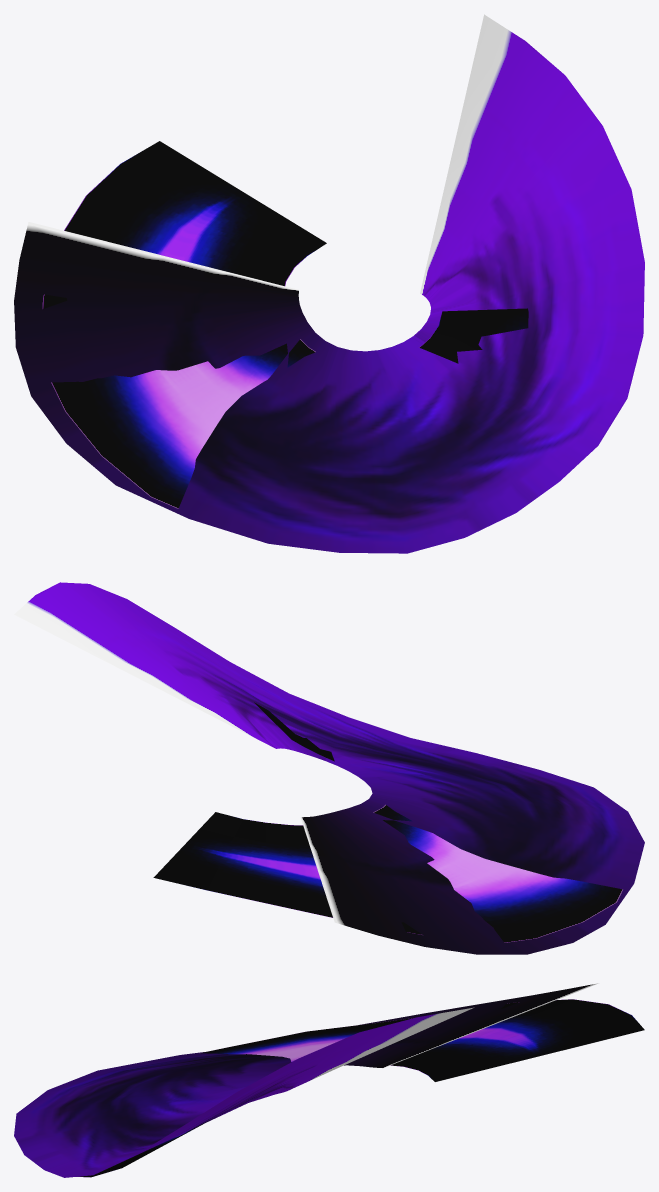
The model's file is effect_lvbu.FBX.
3 renders of one model, top to bottom at view 1: azimuth 30°, elevation 25°; view 2: azimuth 150°, elevation 25°; view 3: azimuth 270°, elevation 25°, orthographic. The views are drawn at different scales.
Visible parts, largest first — view 1: effect_lvbu_1, effect_lvbu_2; view 2: effect_lvbu_1, effect_lvbu_2; view 3: effect_lvbu_1, effect_lvbu_2.
Boxes of the visible parts, x1,y1,x2,y2 form: effect_lvbu_1: [14, 14, 644, 553]; effect_lvbu_2: [42, 141, 528, 508]; effect_lvbu_1: [14, 582, 644, 954]; effect_lvbu_2: [153, 702, 622, 942]; effect_lvbu_1: [14, 983, 598, 1177]; effect_lvbu_2: [77, 999, 644, 1177].
Bounding box in the file's own units: 599 × 310 × 703.
2 materials, 2 textured.
